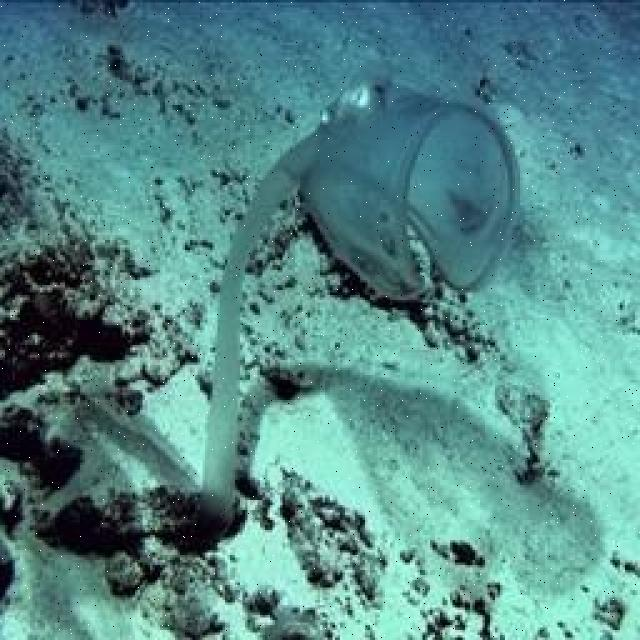reefs: (199, 68, 521, 534)
